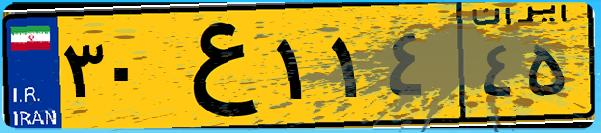0: (110, 28, 158, 98)
1: (270, 28, 330, 110), (330, 28, 385, 110)
3: (57, 26, 110, 100)
4: (385, 28, 445, 110), (475, 38, 525, 113)
5: (525, 38, 570, 115)
ع: (158, 12, 270, 120)
